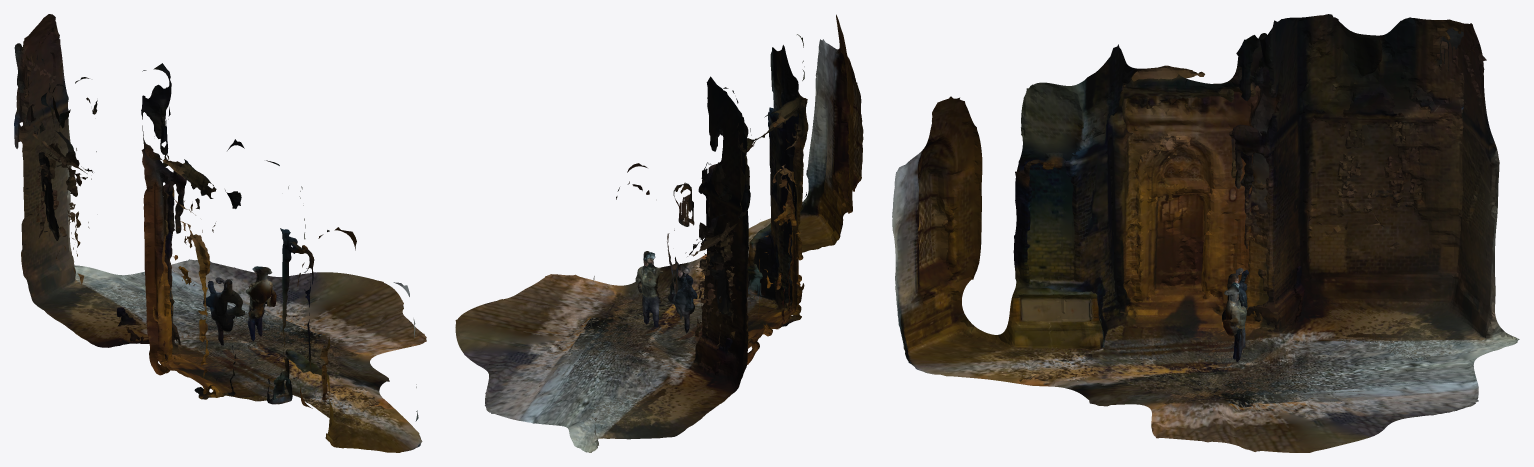
The model's file is scan08.glb.
The picture shows the model from 3 angles, left to right: view 1: azimuth 30°, elevation 25°; view 2: azimuth 150°, elevation 25°; view 3: azimuth 270°, elevation 25°; orthographic projection. The views are drawn at different scales.
Bounding box in the file's own units: 7.48 × 6.98 × 12.43.
1 material, 1 textured.
